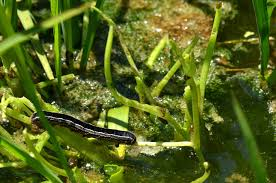Armyworm: (31, 105, 143, 155)
